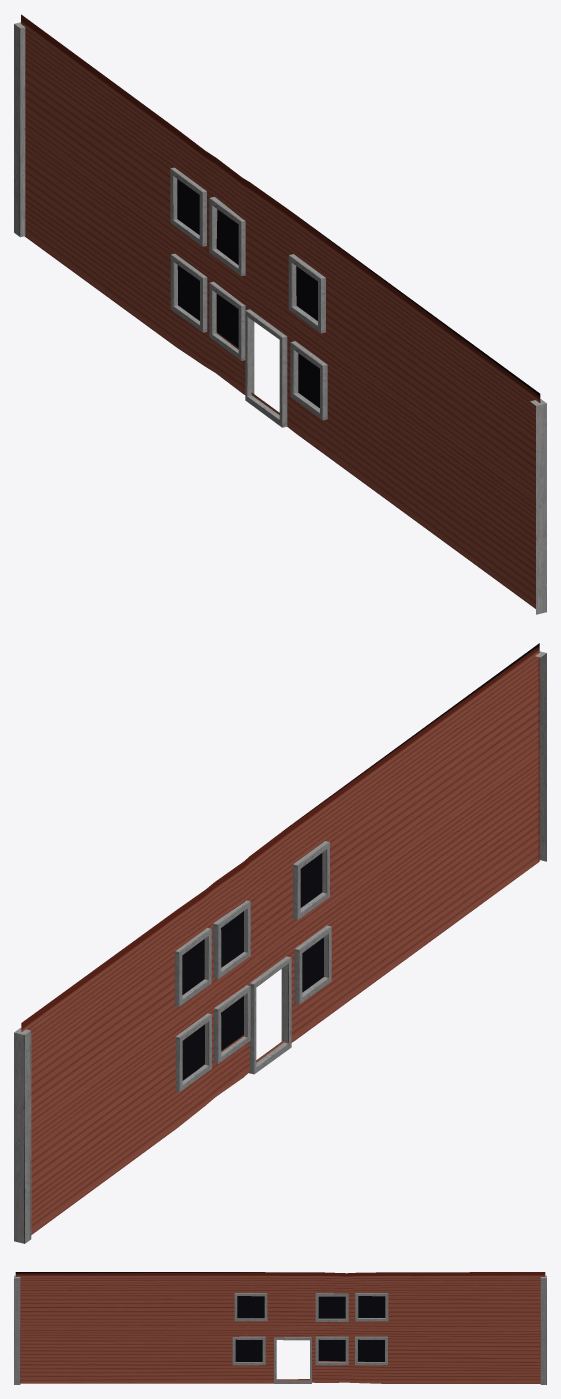
Rendered from house_front 1.fbx.
3 renders of one model, top to bottom at view 1: azimuth 30°, elevation 25°; view 2: azimuth 150°, elevation 25°; view 3: azimuth 270°, elevation 25°, orthographic. The views are drawn at different scales.
Parts seen in each view (by area): view 1: pCube46; view 2: pCube46; view 3: pCube46.
Boxes of the visible parts, bbox=[...] form: pCube46: bbox=[14, 14, 546, 614]; pCube46: bbox=[14, 643, 546, 1243]; pCube46: bbox=[14, 1272, 546, 1384].
Size of the model in its own units: 0.2567 by 4.93 by 21.25.
